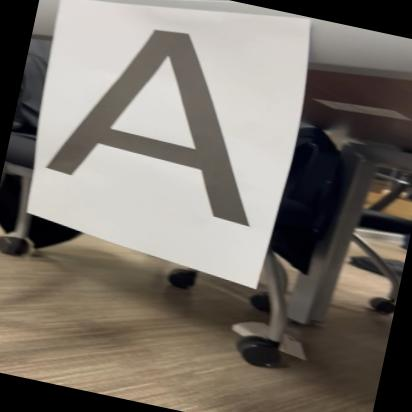seat: (42, 8, 294, 234)
